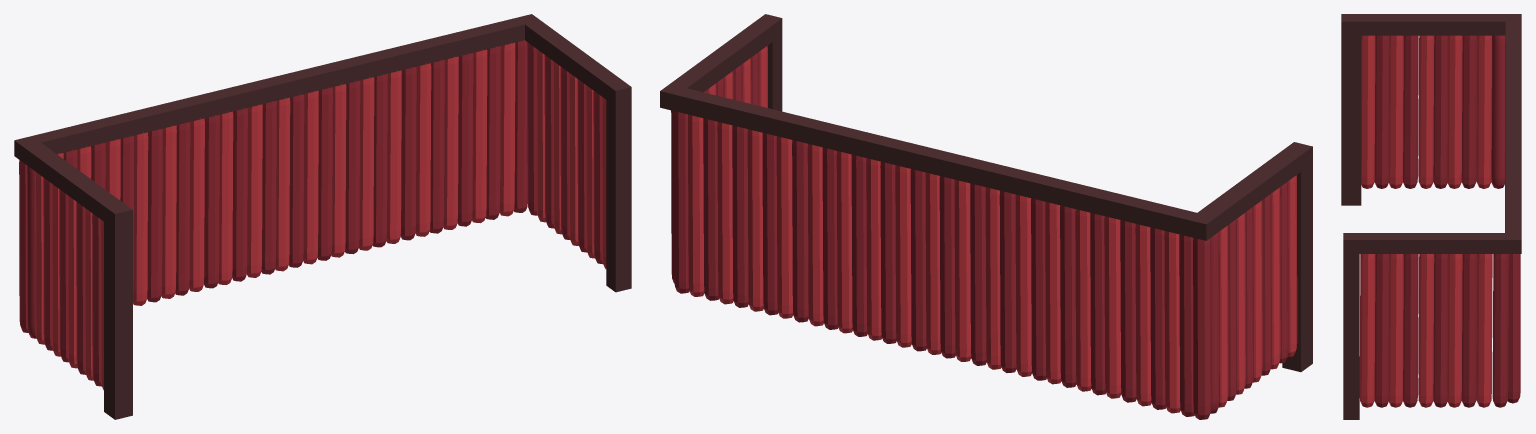
Rendered from Curtains.fbx.
3 renders of one model, left to right at view 1: azimuth 30°, elevation 25°; view 2: azimuth 150°, elevation 25°; view 3: azimuth 270°, elevation 25°, orthographic. The views are drawn at different scales.
Visible parts, largest first — view 1: Curtains; view 2: Curtains; view 3: Curtains.
Boxes of the visible parts, x1,y1,x2,y2 form: Curtains: (14, 14, 631, 419); Curtains: (660, 14, 1312, 419); Curtains: (1341, 14, 1521, 419).
Size of the model in its own units: 1576 by 599 by 532.
